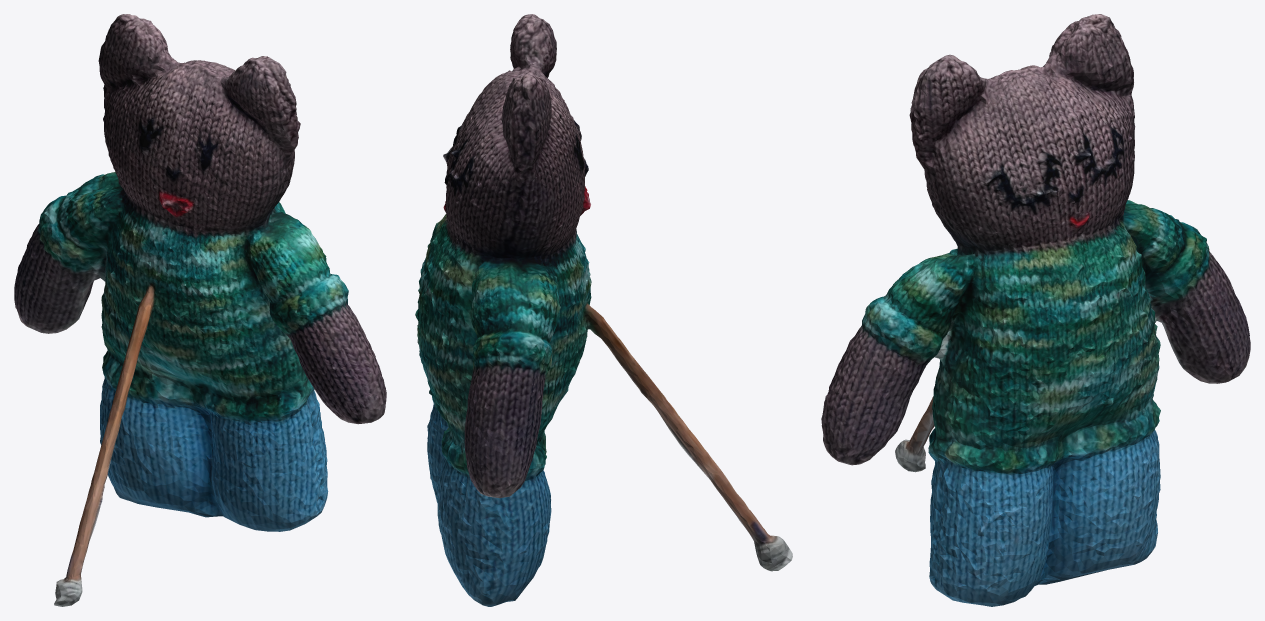
File: model_New Qlone_20260518_105845077.fbx
3 views of the same model, side by side, from view 1: azimuth 30°, elevation 25°; view 2: azimuth 150°, elevation 25°; view 3: azimuth 270°, elevation 25° (orthographic). The views are drawn at different scales.
Parts seen in each view (by area): view 1: object; view 2: object; view 3: object.
Part boxes in pixels (<box>): object: <box>14,14,386,606</box>; object: <box>415,14,792,606</box>; object: <box>821,14,1250,606</box>.
Size of the model in its own units: 512 by 802 by 580.
Materials: 1 (1 with a texture image).
